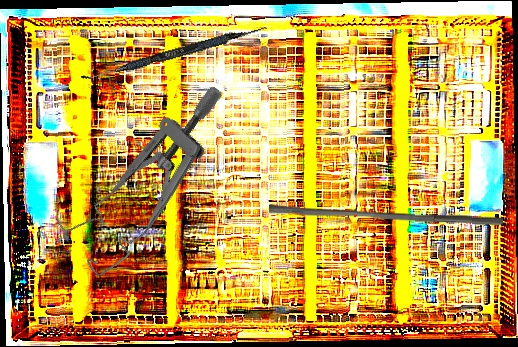Pusher: (268, 203, 504, 227)
Spatula Surgical: (80, 20, 268, 87)
Speculum: (39, 81, 269, 283)
